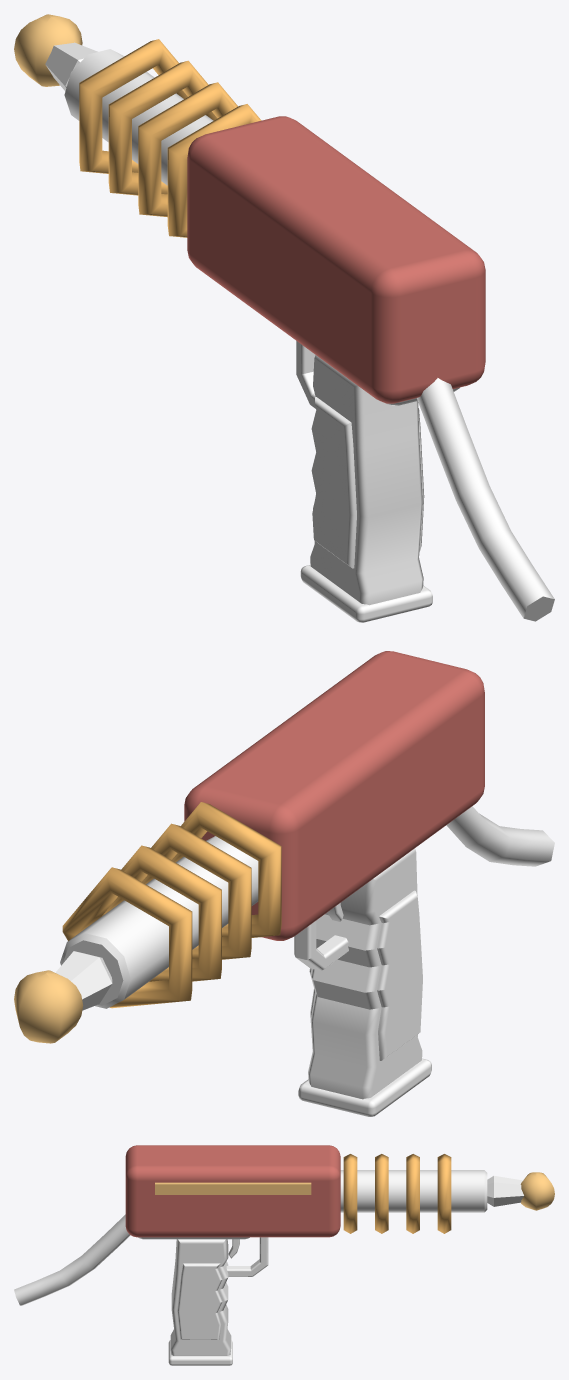
The model's file is ArcWelder.glb.
The picture shows the model from 3 angles, top to bottom: view 1: azimuth 30°, elevation 25°; view 2: azimuth 150°, elevation 25°; view 3: azimuth 270°, elevation 25°; orthographic projection. The views are drawn at different scales.
Visible parts, largest first — view 1: Primary, Base, AccentTrim, AccentGlow; view 2: Primary, Base, AccentTrim, AccentGlow; view 3: Primary, Base, AccentTrim, AccentGlow.
Boxes of the visible parts, x1,y1,x2,y2 form: Primary: (187, 116, 485, 403); Base: (45, 42, 554, 622); AccentTrim: (79, 39, 261, 237); AccentGlow: (14, 14, 82, 86); Primary: (184, 651, 484, 940); Base: (55, 806, 554, 1116); AccentTrim: (62, 802, 281, 1008); AccentGlow: (14, 970, 83, 1043); Primary: (125, 1145, 340, 1237); Base: (14, 1170, 523, 1365); AccentTrim: (343, 1154, 451, 1233); AccentGlow: (155, 1172, 554, 1210).
Size of the model in its own units: 0.796 by 2.29 by 5.53.
